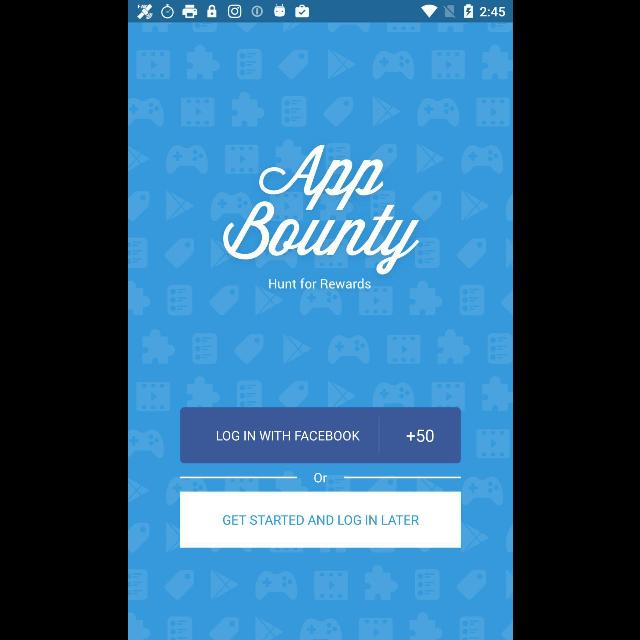backgroundimage: (128, 22, 512, 640)
image: (222, 145, 418, 275)
text: (268, 278, 370, 290), (314, 473, 326, 483)
textbutton: (180, 492, 460, 548), (180, 408, 460, 464)
uppertaskbar: (128, 1, 512, 23)
